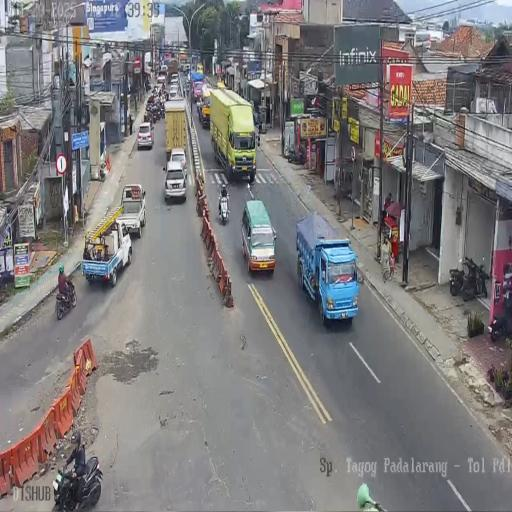3: (297, 211, 358, 325), (209, 86, 256, 184), (198, 85, 212, 127), (189, 71, 204, 99), (179, 52, 187, 67), (164, 53, 171, 66)
car: (240, 201, 276, 275), (118, 185, 147, 239), (167, 147, 187, 178), (137, 122, 154, 150), (168, 86, 178, 100), (157, 74, 166, 88), (170, 74, 179, 88), (197, 62, 203, 75), (183, 63, 190, 74)
truck: (52, 451, 102, 512), (450, 256, 488, 301), (56, 278, 78, 320), (488, 308, 509, 342), (218, 187, 230, 226), (285, 145, 304, 165), (152, 103, 162, 121)
